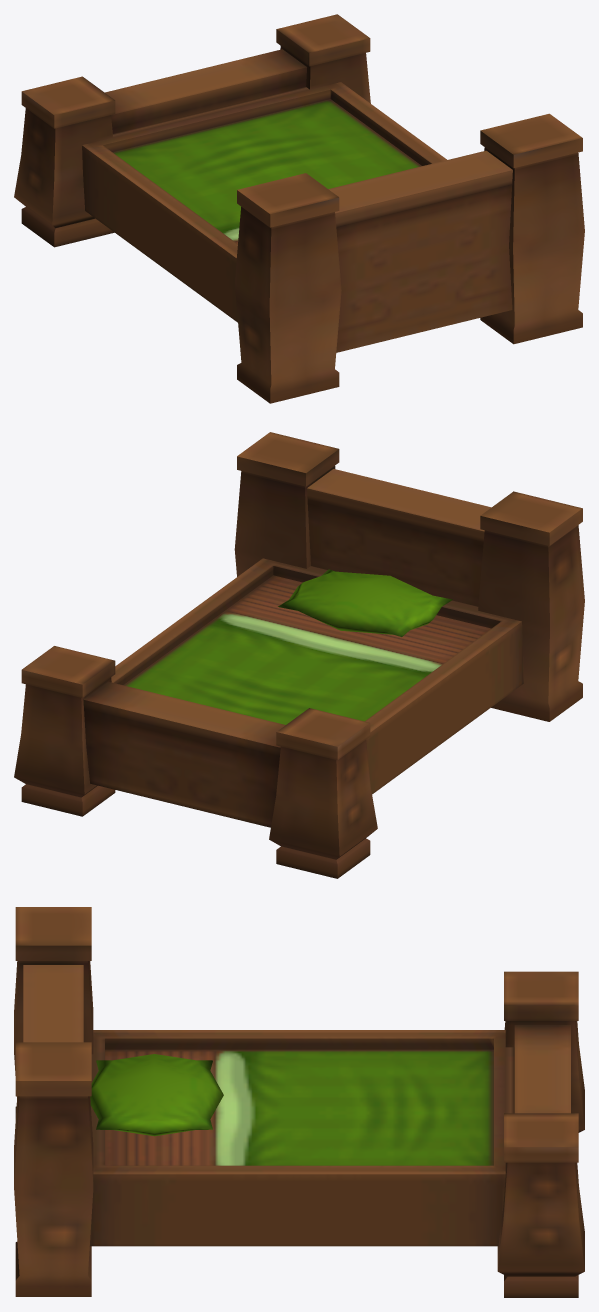
File: Single_Bed_03.gltf
3 renders of one model, top to bottom at view 1: azimuth 30°, elevation 25°; view 2: azimuth 150°, elevation 25°; view 3: azimuth 270°, elevation 25°, orthographic. The views are drawn at different scales.
Parts seen in each view (by area): view 1: Single_Bed_03; view 2: Single_Bed_03; view 3: Single_Bed_03.
Boxes of the visible parts, x1,y1,x2,y2 form: Single_Bed_03: [14, 14, 584, 403]; Single_Bed_03: [14, 432, 584, 878]; Single_Bed_03: [14, 907, 584, 1297].
Bounding box in the file's own units: 64.32 × 35.77 × 85.72.
1 material, 1 textured.
